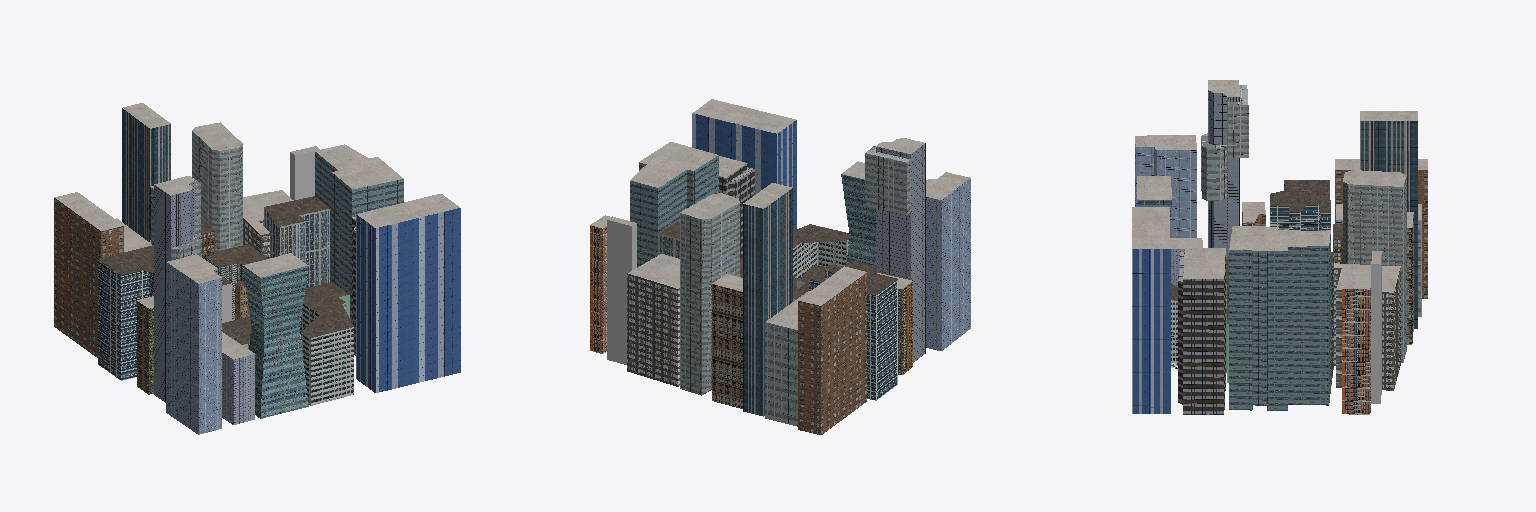
3 views of the same model, side by side, from view 1: azimuth 30°, elevation 25°; view 2: azimuth 150°, elevation 25°; view 3: azimuth 270°, elevation 25° (orthographic).
Visible parts, largest first — view 1: Edificio004_parque_espana.osm_buildings.009, Azoteas_parque_espana.osm_buildings.004, Edificio008_parque_espana.osm_buildings.016, Edificio006_parque_espana.osm_buildings.011, edificio0010_parque_espana.osm_buildings.013, azoteas_parque_espana.osm_buildings.003, Edificio05_parque_espana.osm_buildings.025, Edificio003_parque_espana.osm_buildings.008, Edificio005_parque_espana.osm_buildings.010, Edificio001_parque_espana.osm_buildings.002, Edificio009_parque_espana.osm_buildings.018, Edificio010_parque_espana.osm_buildings.027 (+7 smaller); view 2: Azoteas_parque_espana.osm_buildings.004, edificio0010_parque_espana.osm_buildings.013, Edificio005_parque_espana.osm_buildings.010, Edificio001_parque_espana.osm_buildings.002, Edificio008_parque_espana.osm_buildings.016, Edificio009_parque_espana.osm_buildings.018, edificio0011_parque_espana.osm_buildings.019, Edificio004_parque_espana.osm_buildings.009, Edificio003_parque_espana.osm_buildings.008, Edificio0015_parque_espana.osm_buildings.022, Edificio05_parque_espana.osm_buildings.025, Edificio0014_parque_espana.osm_buildings.021 (+8 smaller); view 3: Edificio003_parque_espana.osm_buildings.008, Azoteas_parque_espana.osm_buildings.004, Edificio002_parque_espana.osm_buildings.006, Edificio004_parque_espana.osm_buildings.009, Edificio001_parque_espana.osm_buildings.002, Edificio005_parque_espana.osm_buildings.010, Edificio0012_parque_espana.osm_buildings.001, Edificio008_parque_espana.osm_buildings.016, Edificio009_parque_espana.osm_buildings.018, Edificio009_extrusiones_parque_espana.osm_buildings.017, edificio0011_parque_espana.osm_buildings.019, azoteas_parque_espana.osm_buildings.003 (+4 smaller).
Part boxes in pixels (x1,y1,x2,y2): Edificio004_parque_espana.osm_buildings.009: (356,208,460,392); Azoteas_parque_espana.osm_buildings.004: (54,103,459,359); Edificio008_parque_espana.osm_buildings.016: (166,262,221,434); Edificio006_parque_espana.osm_buildings.011: (243,266,308,418); edificio0010_parque_espana.osm_buildings.013: (54,198,123,357); azoteas_parque_espana.osm_buildings.003: (99,196,353,344); Edificio05_parque_espana.osm_buildings.025: (98,259,153,380); Edificio003_parque_espana.osm_buildings.008: (315,152,403,321); Edificio005_parque_espana.osm_buildings.010: (122,108,170,244); Edificio001_parque_espana.osm_buildings.002: (192,131,242,251); Edificio009_parque_espana.osm_buildings.018: (154,180,194,402); Edificio010_parque_espana.osm_buildings.027: (300,302,353,405); Azoteas_parque_espana.osm_buildings.004: (591,99,969,329); edificio0010_parque_espana.osm_buildings.013: (798,273,866,434); Edificio005_parque_espana.osm_buildings.010: (743,188,792,416); Edificio001_parque_espana.osm_buildings.002: (680,203,739,395); Edificio008_parque_espana.osm_buildings.016: (926,178,970,350); Edificio009_parque_espana.osm_buildings.018: (876,138,925,362); edificio0011_parque_espana.osm_buildings.019: (627,273,679,386); Edificio004_parque_espana.osm_buildings.009: (692,113,796,230); Edificio003_parque_espana.osm_buildings.008: (630,155,718,267); Edificio0015_parque_espana.osm_buildings.022: (712,284,742,408); Edificio05_parque_espana.osm_buildings.025: (809,269,897,400); Edificio0014_parque_espana.osm_buildings.021: (607,220,636,364); Edificio003_parque_espana.osm_buildings.008: (1229,229,1330,410); Azoteas_parque_espana.osm_buildings.004: (1132,80,1427,292); Edificio002_parque_espana.osm_buildings.006: (1178,252,1225,414); Edificio004_parque_espana.osm_buildings.009: (1132,249,1170,413); Edificio001_parque_espana.osm_buildings.002: (1343,176,1406,362); Edificio005_parque_espana.osm_buildings.010: (1360,121,1417,328); Edificio0012_parque_espana.osm_buildings.001: (1342,288,1370,414); Edificio008_parque_espana.osm_buildings.016: (1135,144,1196,237); Edificio009_parque_espana.osm_buildings.018: (1208,90,1239,258); Edificio009_extrusiones_parque_espana.osm_buildings.017: (1201,85,1248,200); edificio0011_parque_espana.osm_buildings.019: (1334,268,1400,390); azoteas_parque_espana.osm_buildings.003: (1171,180,1342,323).
Bounding box in the file's own units: 83.72 × 69.92 × 80.85.
31 materials, 25 textured.